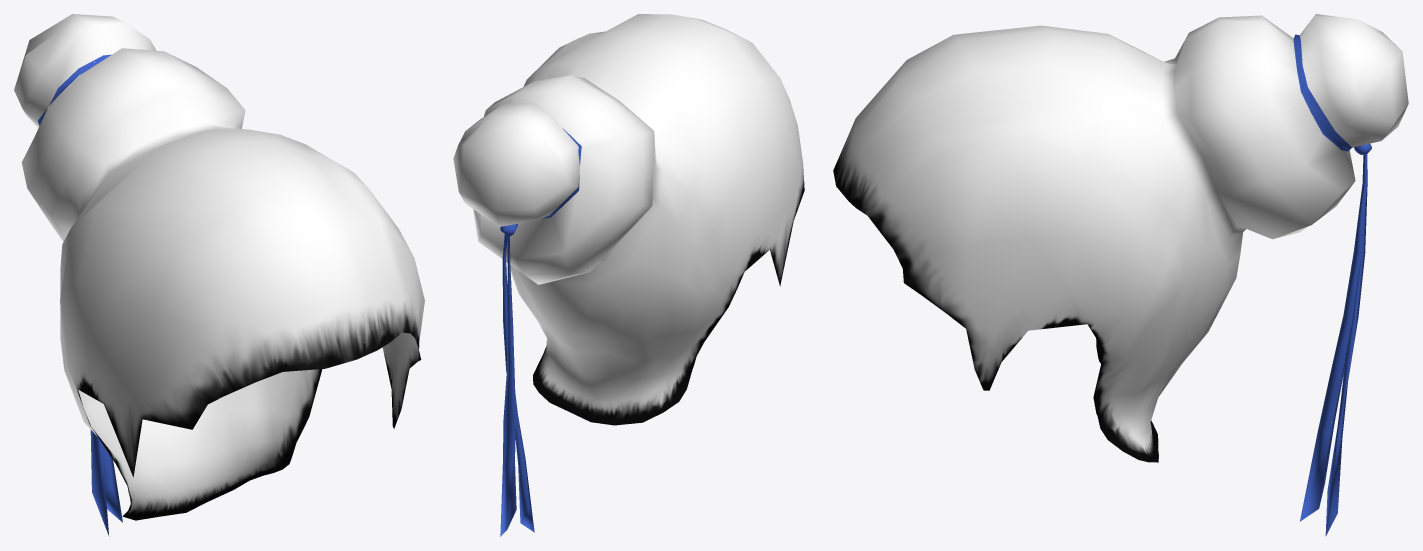
The model's file is Chinese Updo.fbx.
3 views of the same model, side by side, from view 1: azimuth 30°, elevation 25°; view 2: azimuth 150°, elevation 25°; view 3: azimuth 270°, elevation 25° (orthographic). The views are drawn at different scales.
Parts seen in each view (by area): view 1: Female Hair; view 2: Female Hair; view 3: Female Hair.
Part boxes in pixels (bbox=[...]): Female Hair: bbox=[14, 14, 424, 536]; Female Hair: bbox=[453, 14, 804, 536]; Female Hair: bbox=[833, 14, 1408, 536].
Size of the model in its own units: 0.1555 by 0.2673 by 0.2762.
1 material, 1 textured.
